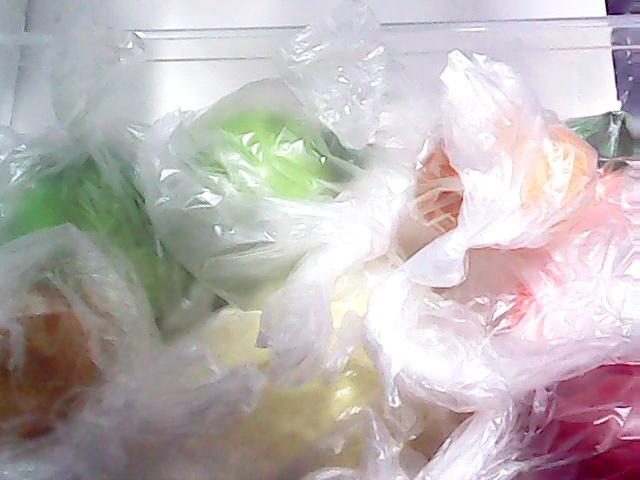apple: (150, 103, 330, 269), (475, 358, 640, 480)
cabbage: (4, 132, 220, 340)
carrot: (503, 112, 640, 340)
napa cabbage: (60, 227, 455, 480)
potato: (0, 289, 120, 447)
radish: (322, 98, 446, 264)
